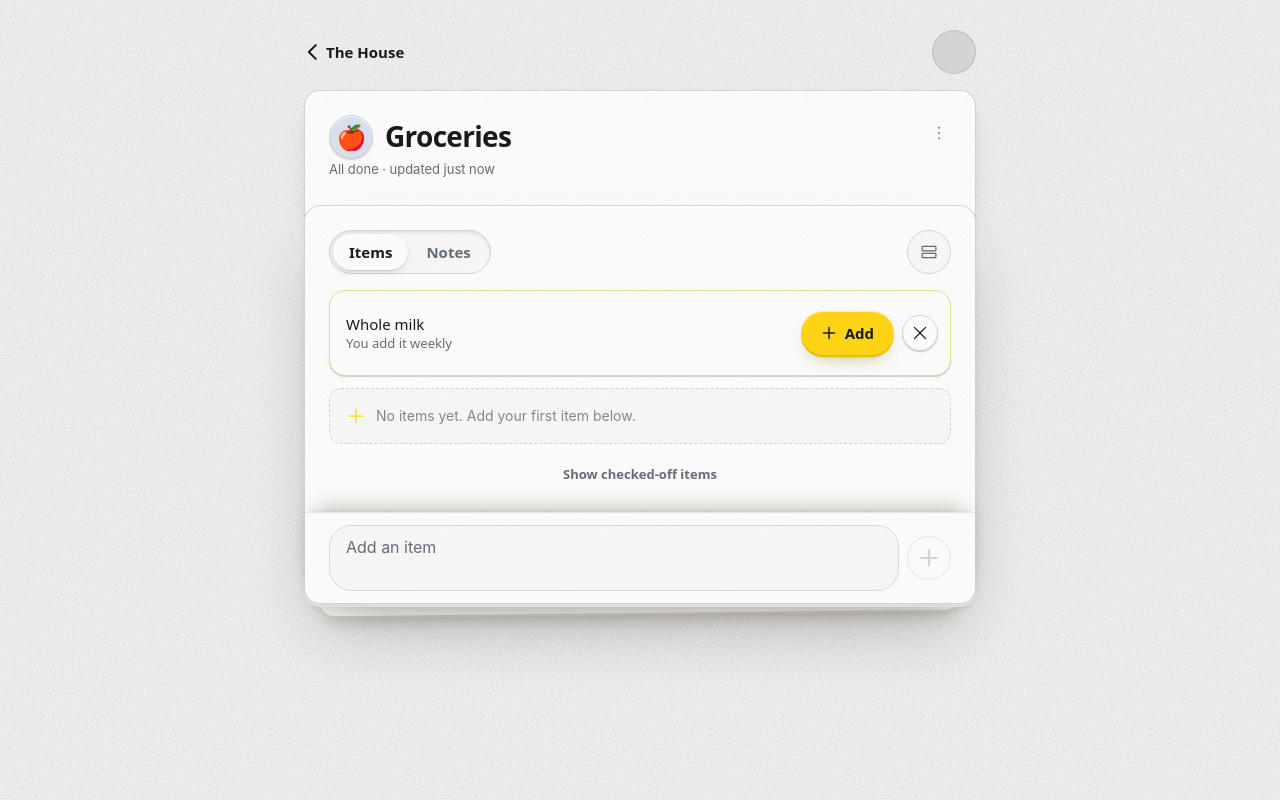
Scenario: ListPage smart suggestions › stops suggesting after two ignores in a row
Click the button named "Ignore suggestion: Whole milk" at (920, 333), box x1=902 y1=315 x2=938 y2=351
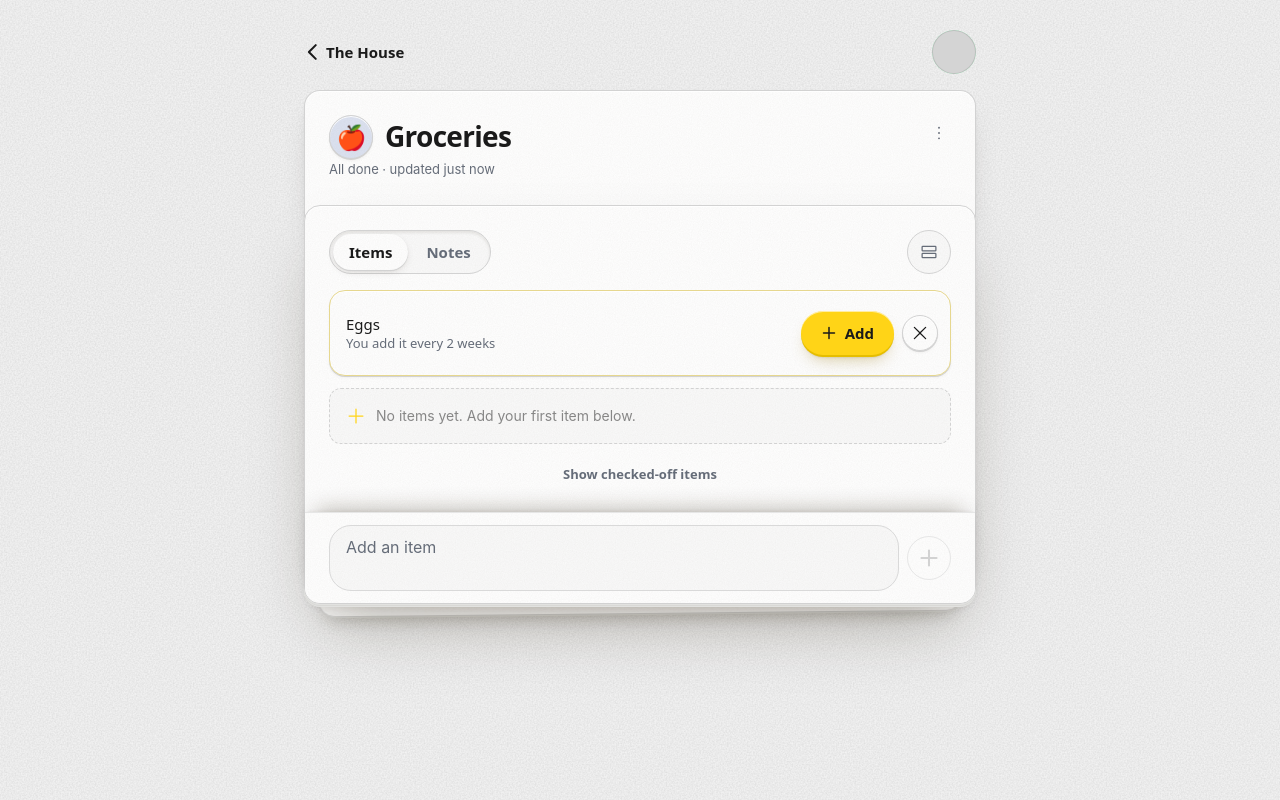
Click the button named "Ignore suggestion: Eggs" at (920, 333), box x1=902 y1=315 x2=938 y2=351
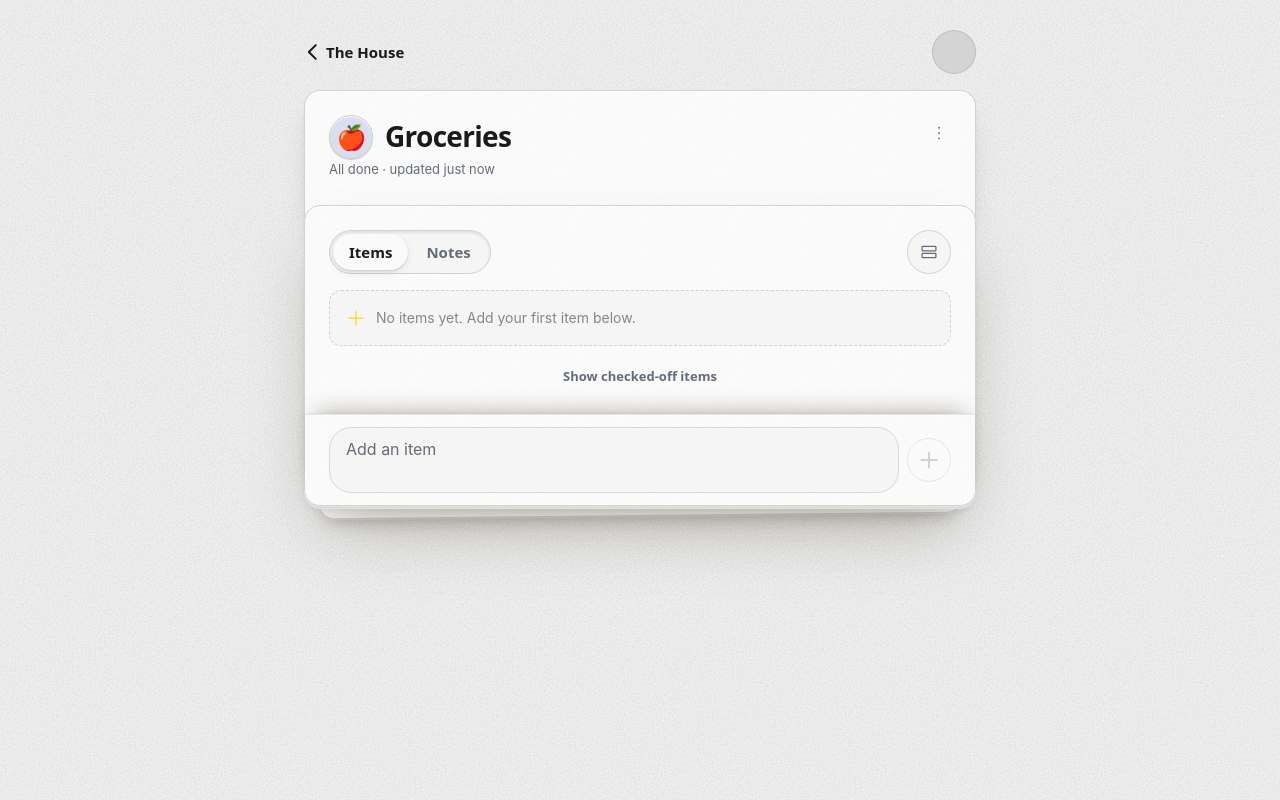
Now the element "Suggestion" is gone
